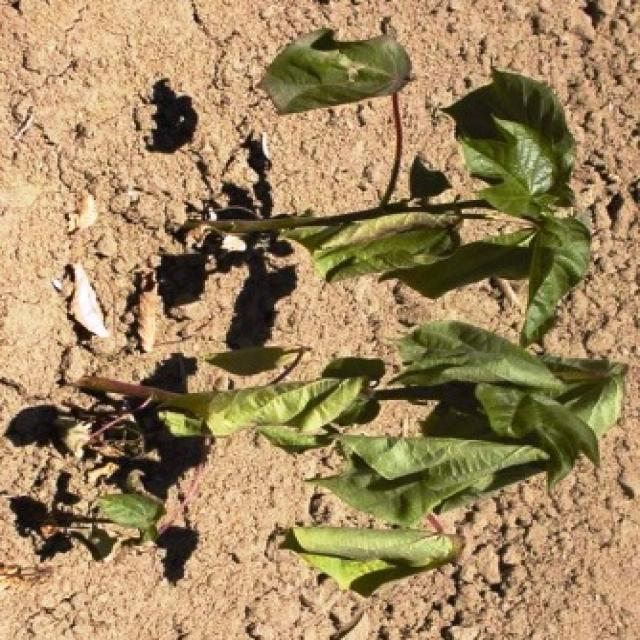Fusarium Wilt: (143, 30, 589, 635)
